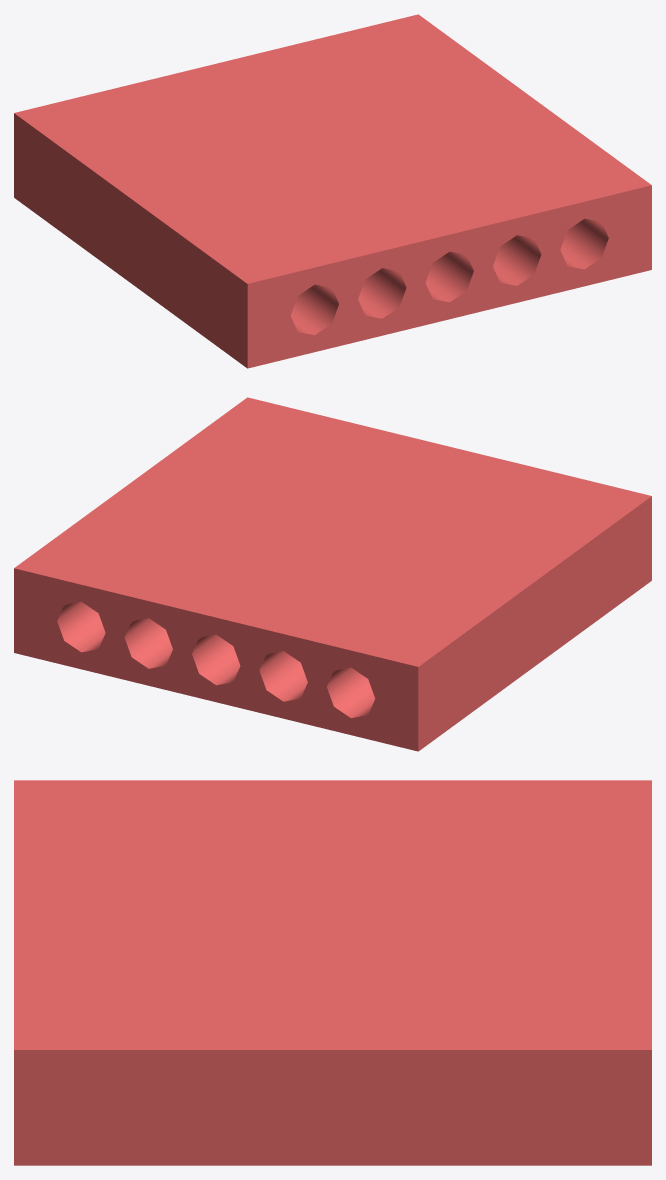
The model's file is 003_MovePlatform.FBX.
The picture shows the model from 3 angles, top to bottom: view 1: azimuth 30°, elevation 25°; view 2: azimuth 150°, elevation 25°; view 3: azimuth 270°, elevation 25°; orthographic projection. The views are drawn at different scales.
Parts seen in each view (by area): view 1: 003_MovePlatform; view 2: 003_MovePlatform; view 3: 003_MovePlatform.
Boxes of the visible parts, x1=… form: 003_MovePlatform: x1=14, y1=14, x2=651, y2=368; 003_MovePlatform: x1=14, y1=397, x2=651, y2=751; 003_MovePlatform: x1=14, y1=780, x2=651, y2=1165.
Bounding box in the file's own units: 500 × 100 × 500.
